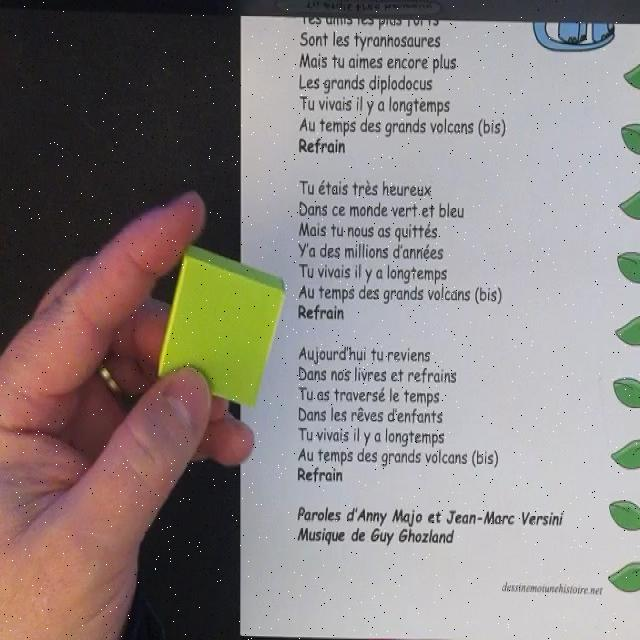square: (158, 244, 286, 409)
